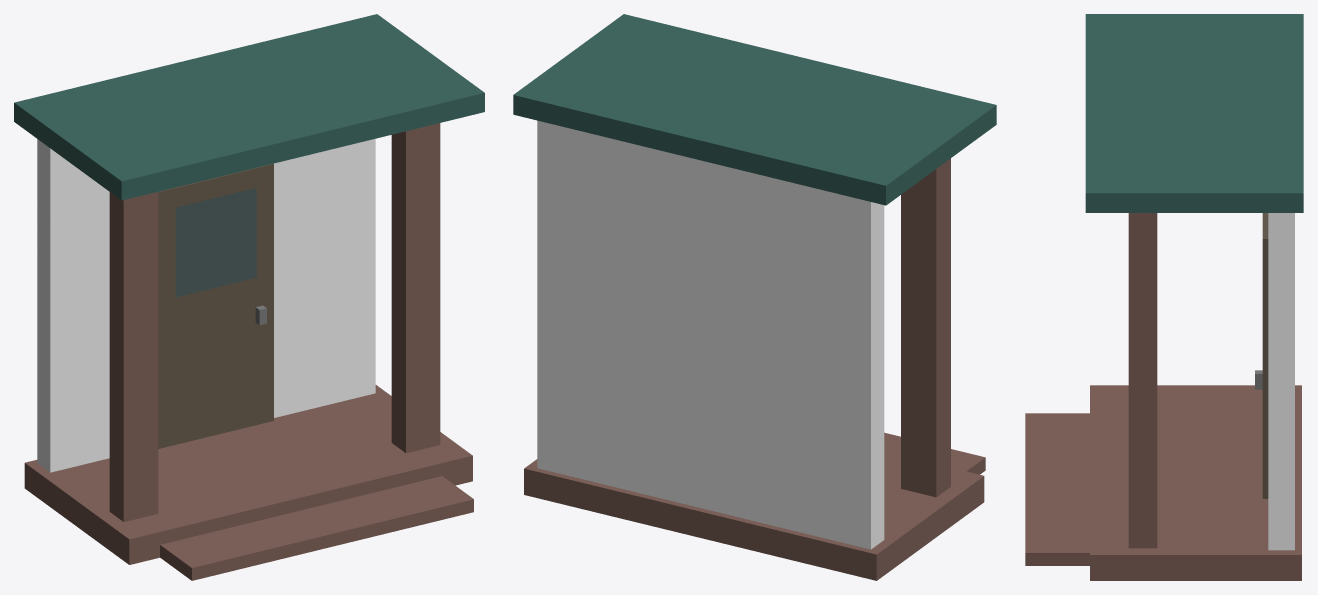
The model's file is entrance.fbx.
The picture shows the model from 3 angles, left to right: view 1: azimuth 30°, elevation 25°; view 2: azimuth 150°, elevation 25°; view 3: azimuth 270°, elevation 25°; orthographic projection. The views are drawn at different scales.
Parts seen in each view (by area): view 1: a2000/500/entrance; view 2: a2000/500/entrance; view 3: a2000/500/entrance.
Boxes of the visible parts, x1,y1,x2,y2 form: a2000/500/entrance: [14, 14, 484, 580]; a2000/500/entrance: [513, 14, 996, 580]; a2000/500/entrance: [1025, 14, 1303, 580].
Bounding box in the file's own units: 2.96 × 3.02 × 1.94.
